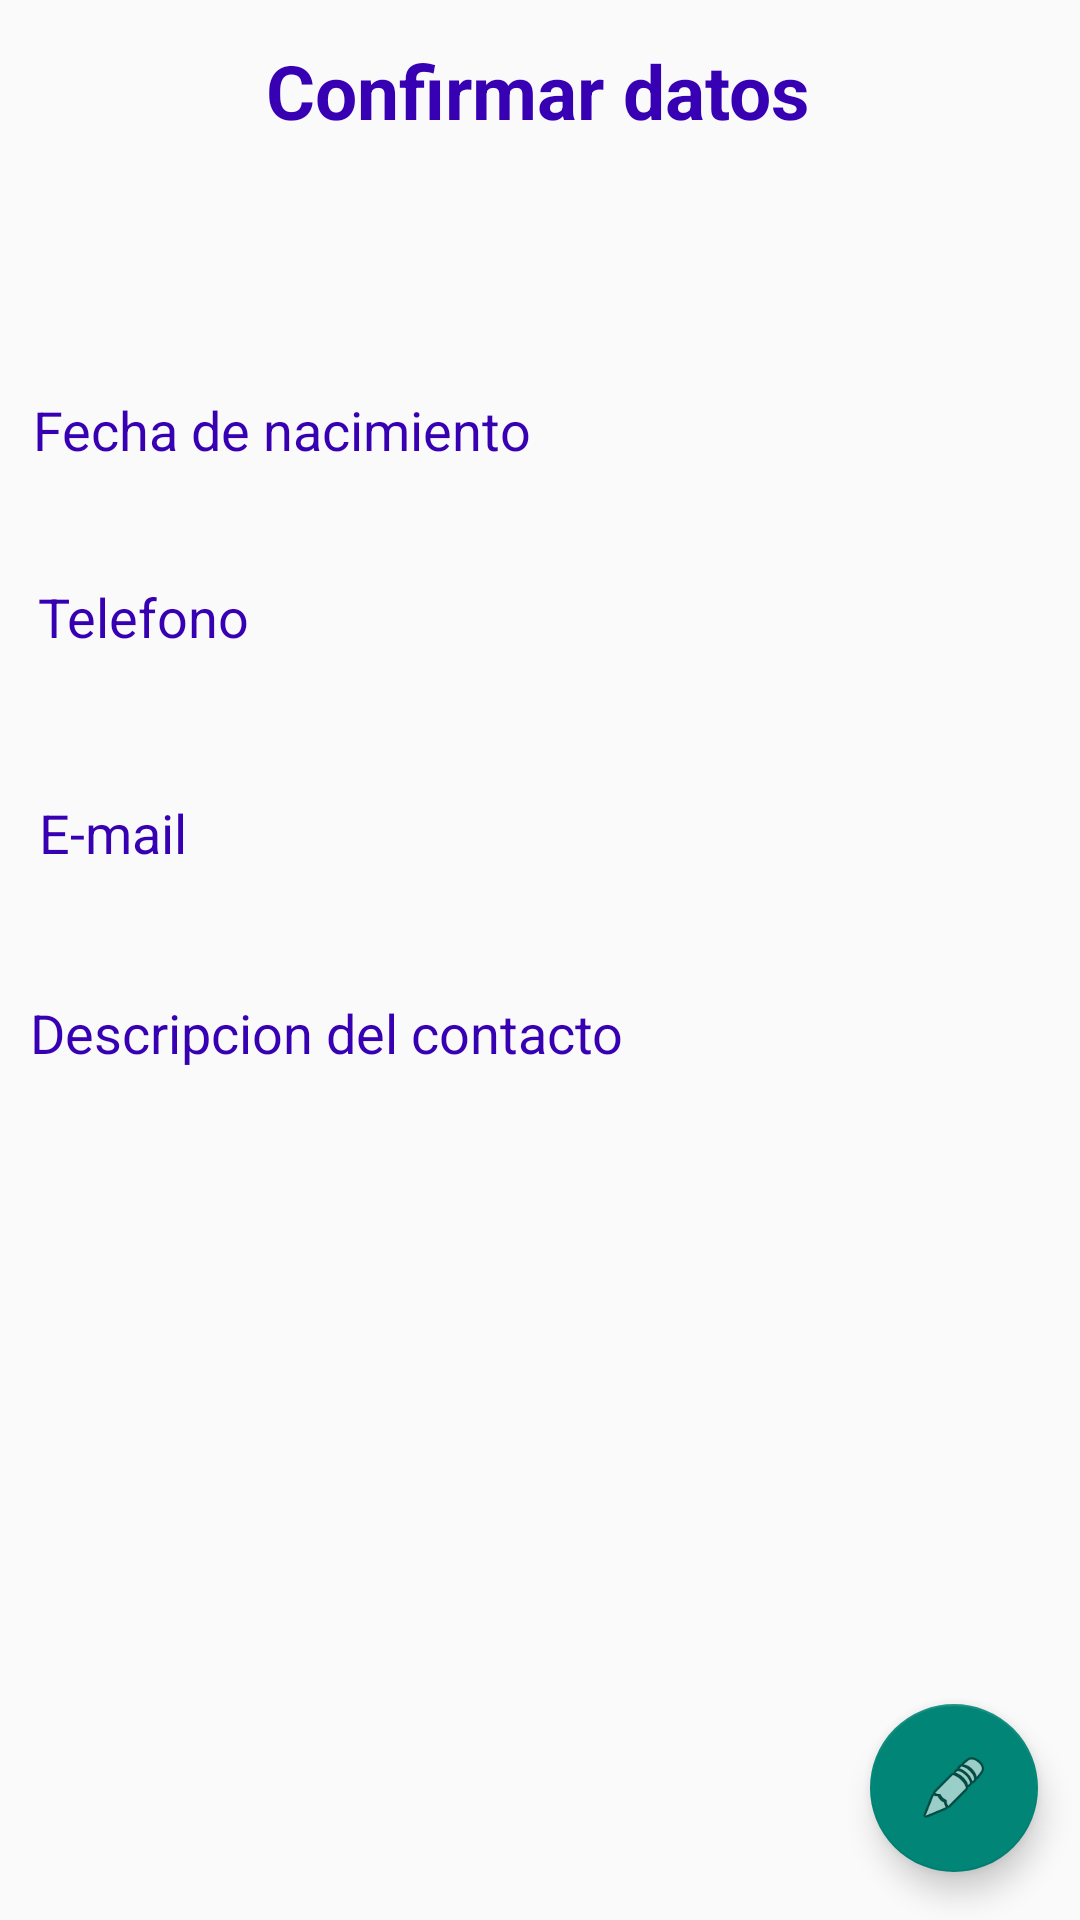

Point at icon controls on the screen. Image size 1080w x 1920h, points as point (x, y).
edit: point (954, 1788)
